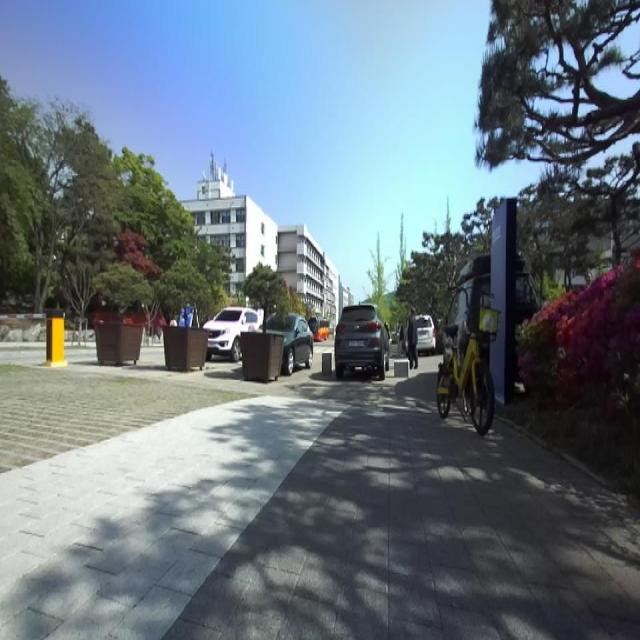sidewalk: (0, 395, 640, 639)
